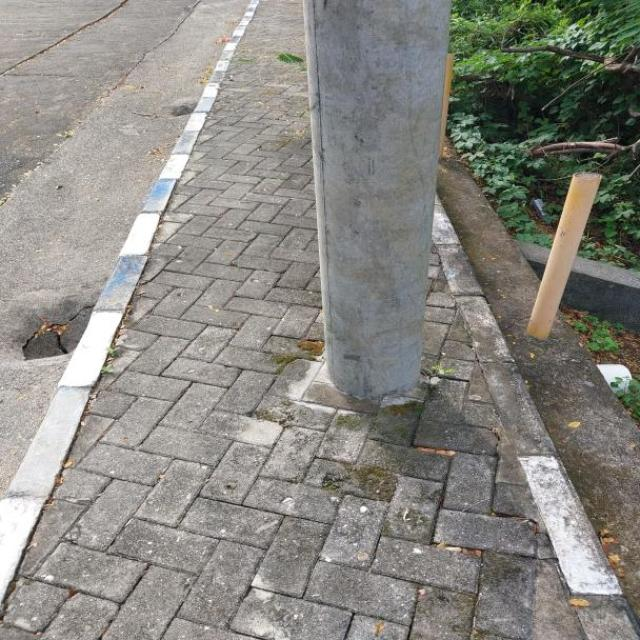electric pole ahead at: (308, 0, 444, 406)
